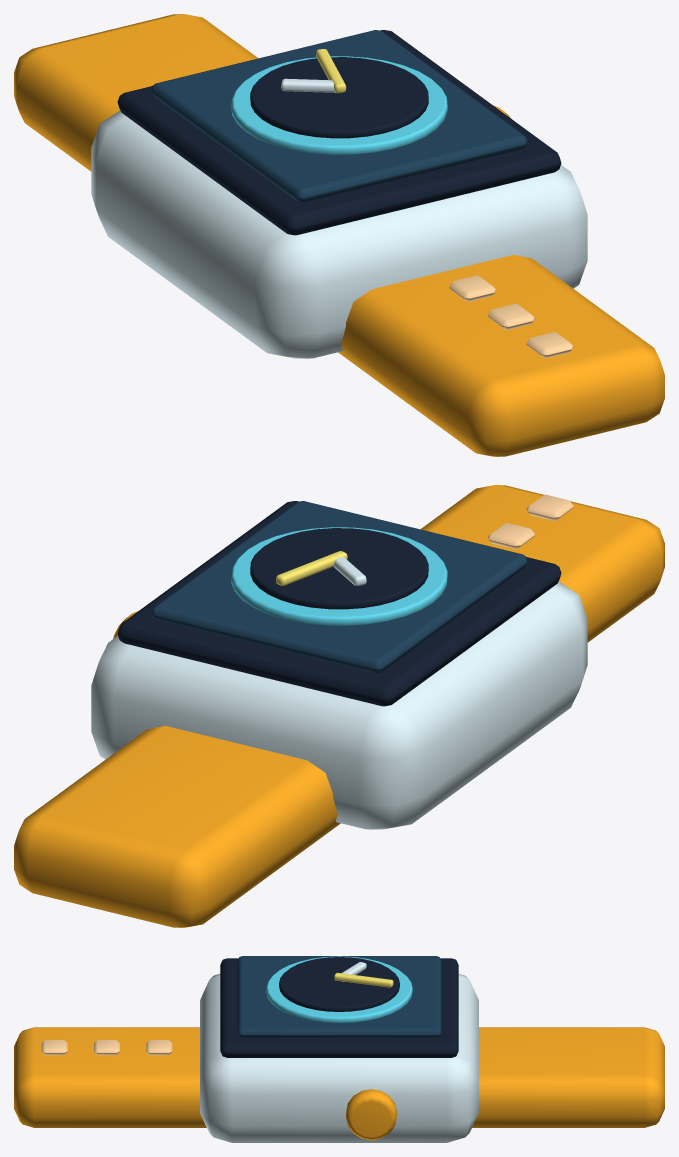
File: smartwatch.glb
The picture shows the model from 3 angles, top to bottom: view 1: azimuth 30°, elevation 25°; view 2: azimuth 150°, elevation 25°; view 3: azimuth 270°, elevation 25°; orthographic projection. The views are drawn at different scales.
Parts seen in each view (by area): view 1: smartwatch; view 2: smartwatch; view 3: smartwatch.
Part boxes in pixels (box(x1,y1,x2,y2)): smartwatch: box(14, 14, 664, 456); smartwatch: box(14, 485, 664, 927); smartwatch: box(14, 956, 664, 1142).
Bounding box in the file's own units: 0.4259 × 0.2205 × 1.
1 material, 1 textured.
